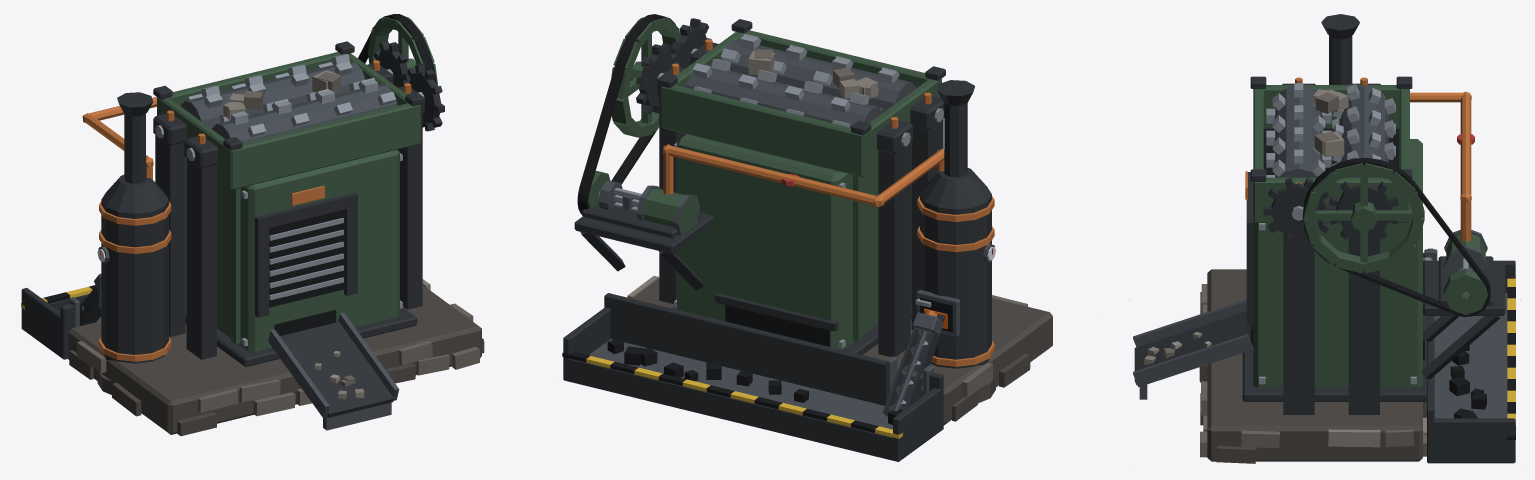
File: concasseur_t1.glb
3 renders of one model, left to right at view 1: azimuth 30°, elevation 25°; view 2: azimuth 150°, elevation 25°; view 3: azimuth 270°, elevation 25°, orthographic. The views are drawn at different scales.
Parts seen in each view (by area): view 1: pieces_fonte.006, bati.002, massif.004, pieces_vert_fonce.002, chaudiere.004, pieces_pierre.004, bouche_machoires.002, pieces_acier_sombre.006, rouleau_acier_sombre.002, pieces_acier.006, volant_acier_sombre.002, pieces_pierre_sombre.004 (+15 smaller); view 2: pieces_fonte.006, bati.002, pieces_vert_fonce.002, chaudiere.004, massif.004, bac_charbon.002, pieces_cuivre.006, volant_acier_sombre.002, pieces_noir.006, rouleau_acier_sombre.002, courroie.002, volant_vert_fonce.002 (+18 smaller); view 3: pieces_fonte.006, massif.004, bati.002, pieces_vert_fonce.002, volant_vert_fonce.002, bac_charbon.002, pieces_acier_sombre.006, pieces_pierre.004, rouleau_acier_sombre.002, courroie.002, pieces_cuivre.006, rouleau_acier.002 (+15 smaller).
Part boxes in pixels (x1,y1,x2,y2): pieces_fonte.006: [21, 41, 424, 417]; bati.002: [217, 149, 399, 351]; massif.004: [68, 285, 481, 434]; pieces_vert_fonce.002: [157, 52, 420, 344]; chaudiere.004: [101, 200, 168, 363]; pieces_pierre.004: [76, 72, 479, 416]; bouche_machoires.002: [269, 209, 344, 307]; pieces_acier_sombre.006: [69, 276, 399, 430]; rouleau_acier_sombre.002: [212, 84, 397, 143]; pieces_acier.006: [241, 153, 402, 346]; volant_acier_sombre.002: [181, 61, 365, 128]; pieces_pierre_sombre.004: [69, 338, 484, 436]; pieces_fonte.006: [563, 19, 967, 461]; bati.002: [677, 134, 878, 349]; pieces_vert_fonce.002: [661, 30, 941, 341]; chaudiere.004: [920, 194, 991, 368]; massif.004: [632, 278, 1052, 425]; bac_charbon.002: [589, 339, 892, 429]; pieces_cuivre.006: [662, 39, 944, 316]; volant_acier_sombre.002: [686, 64, 883, 127]; pieces_noir.006: [562, 339, 903, 432]; rouleau_acier_sombre.002: [720, 40, 916, 111]; courroie.002: [577, 14, 675, 213]; volant_vert_fonce.002: [611, 17, 680, 137]; pieces_fonte.006: [1134, 36, 1515, 463]; massif.004: [1207, 269, 1422, 461]; bati.002: [1253, 139, 1422, 387]; pieces_vert_fonce.002: [1253, 85, 1409, 387]; volant_vert_fonce.002: [1303, 157, 1424, 273]; bac_charbon.002: [1434, 293, 1507, 418]; pieces_acier_sombre.006: [1133, 249, 1472, 399]; pieces_pierre.004: [1154, 92, 1426, 457]; rouleau_acier_sombre.002: [1274, 86, 1323, 177]; courroie.002: [1302, 157, 1490, 316]; pieces_cuivre.006: [1245, 77, 1471, 241]; rouleau_acier.002: [1266, 83, 1331, 220].
Bounding box in the file's own units: 1.5 × 1.27 × 1.5.
